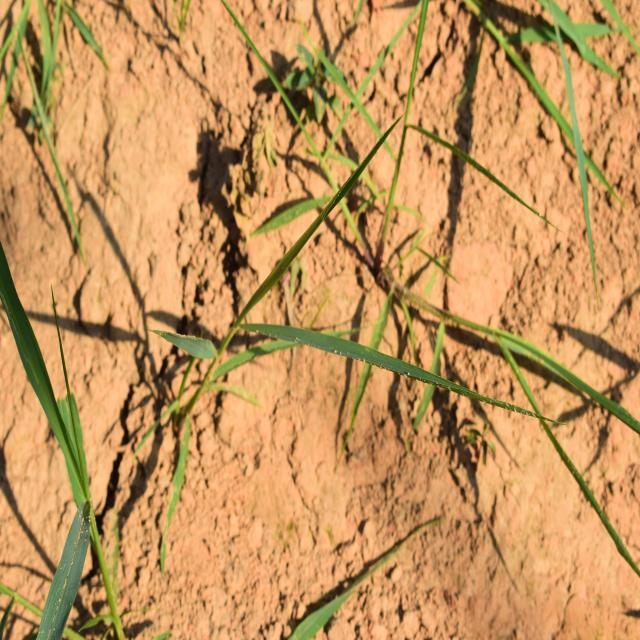green_foxtail: (147, 204, 437, 417)
